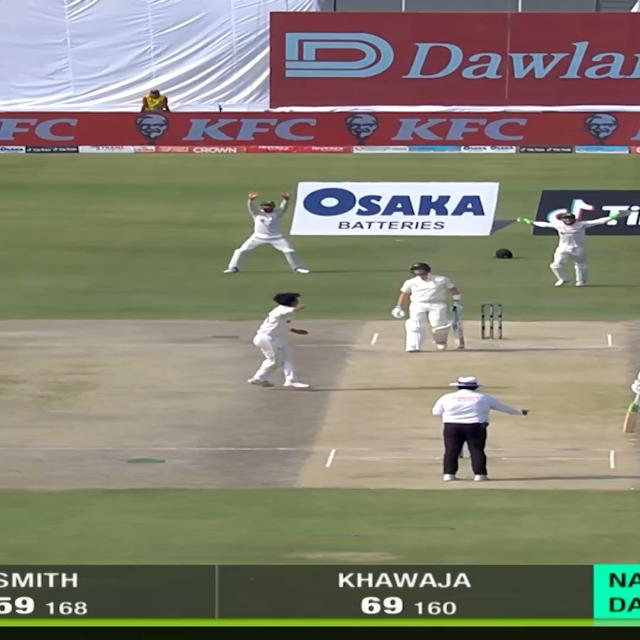stump: (480, 304, 503, 341)
